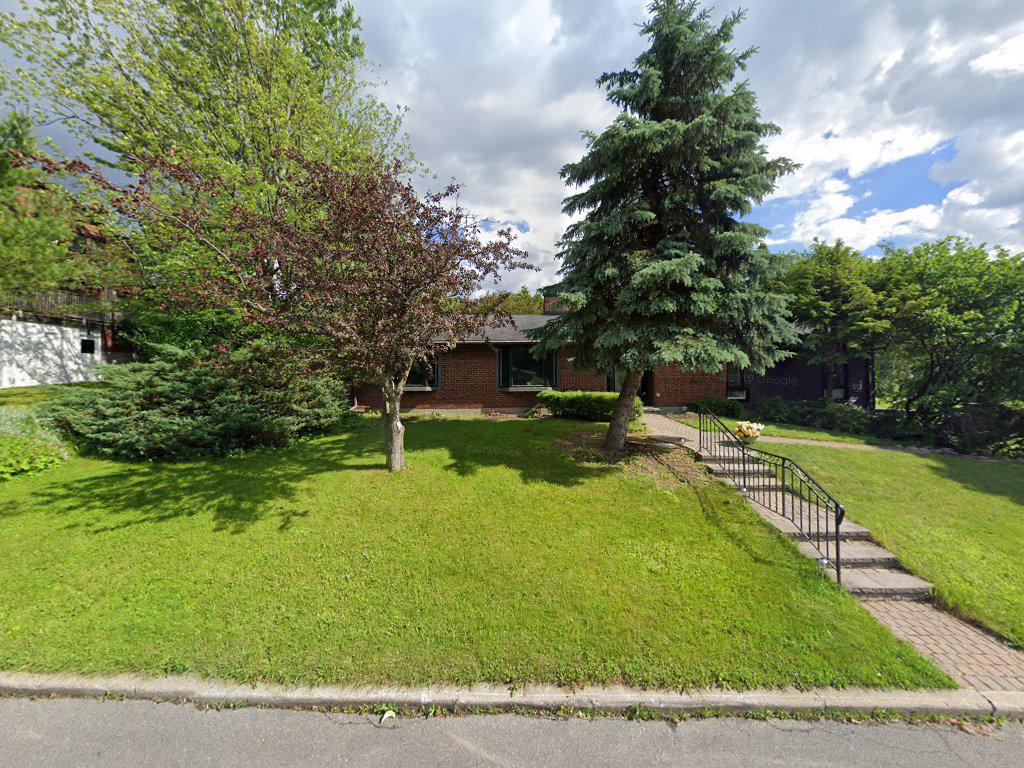trunk: (596, 362, 642, 467), (382, 383, 412, 487)
